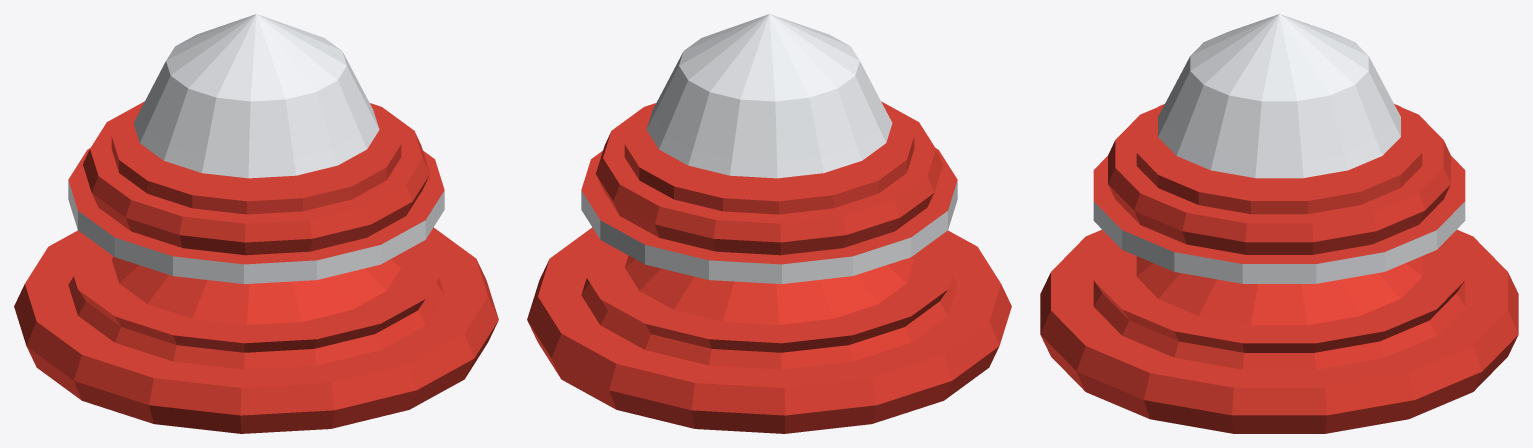
The model's file is pawn_cap-deco.glb.
The picture shows the model from 3 angles, left to right: view 1: azimuth 30°, elevation 25°; view 2: azimuth 150°, elevation 25°; view 3: azimuth 270°, elevation 25°; orthographic projection.
Visible parts, largest first — view 1: pawn_cap-deco; view 2: pawn_cap-deco; view 3: pawn_cap-deco.
Boxes of the visible parts, x1=… form: pawn_cap-deco: x1=14, y1=14, x2=498, y2=433; pawn_cap-deco: x1=527, y1=14, x2=1011, y2=433; pawn_cap-deco: x1=1040, y1=14, x2=1518, y2=433.
Bounding box in the file's own units: 0.2826 × 0.2107 × 0.2826.
